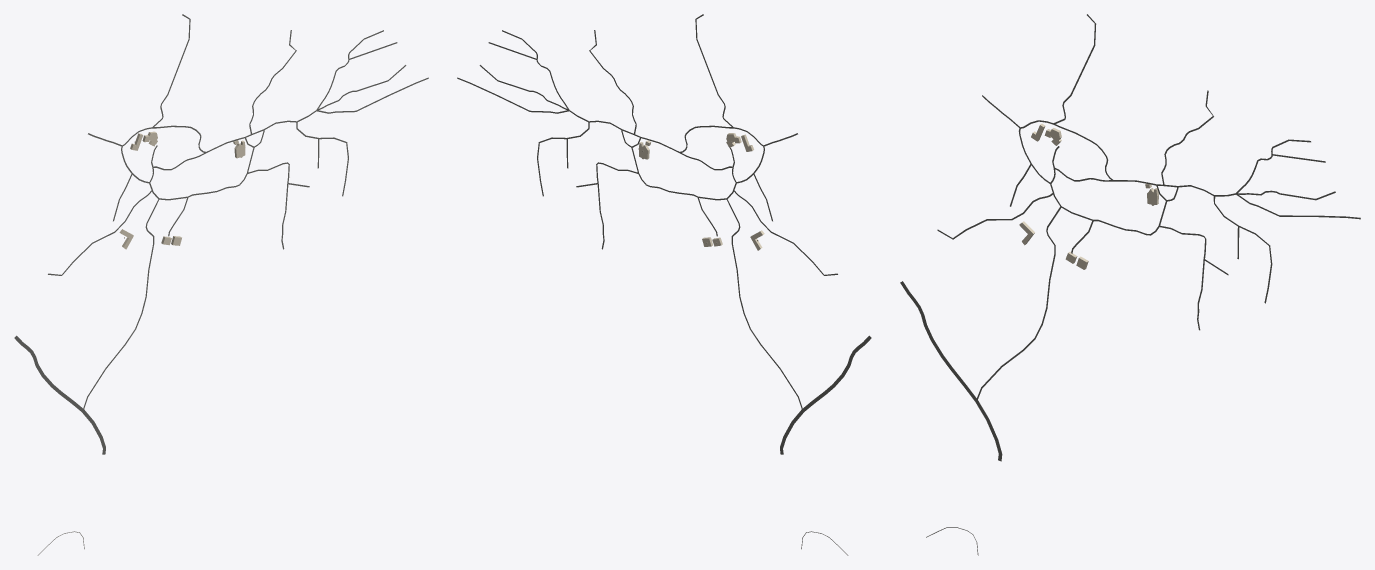
The model's file is historic-palestine-08_26_3504_3207.glb.
The picture shows the model from 3 angles, left to right: view 1: azimuth 30°, elevation 25°; view 2: azimuth 150°, elevation 25°; view 3: azimuth 330°, elevation 25°; orthographic projection. The views are drawn at different scales.
Visible parts, largest first — view 1: Road طريق رافات - دير بلوط; view 2: Road طريق رافات - دير بلوط; view 3: Road طريق رافات - دير بلوط.
Part boxes in pixels (<box>): Road طريق رافات - دير بلوط: <box>14,335,105,450</box>; Road طريق رافات - دير بلوط: <box>780,335,871,450</box>; Road طريق رافات - دير بلوط: <box>900,281,1002,457</box>.
Size of the model in its own units: 1029 by 1213 by 8.7.
